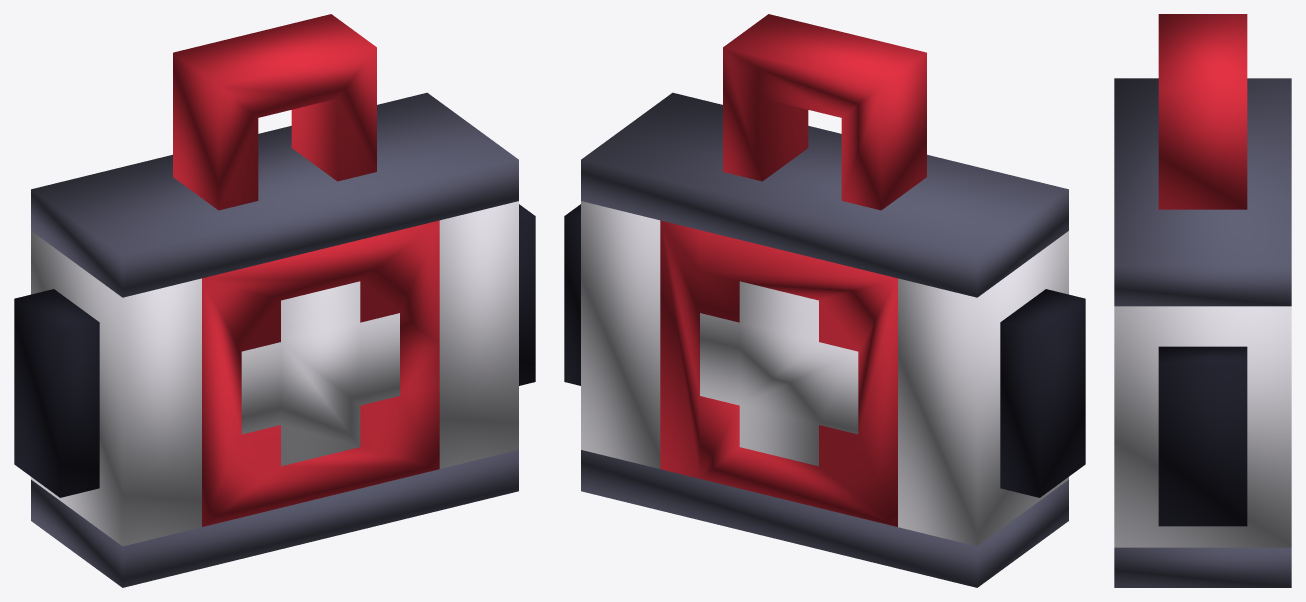
File: medkit.lod1.glb
The picture shows the model from 3 angles, left to right: view 1: azimuth 30°, elevation 25°; view 2: azimuth 150°, elevation 25°; view 3: azimuth 270°, elevation 25°; orthographic projection. The views are drawn at different scales.
Visible parts, largest first — view 1: medkit.body; view 2: medkit.body; view 3: medkit.body.
Part boxes in pixels (bbox=[...]): medkit.body: bbox=[14, 14, 535, 587]; medkit.body: bbox=[564, 14, 1085, 587]; medkit.body: bbox=[1114, 14, 1291, 587].
Size of the model in its own units: 0.375 by 0.3438 by 0.125.
